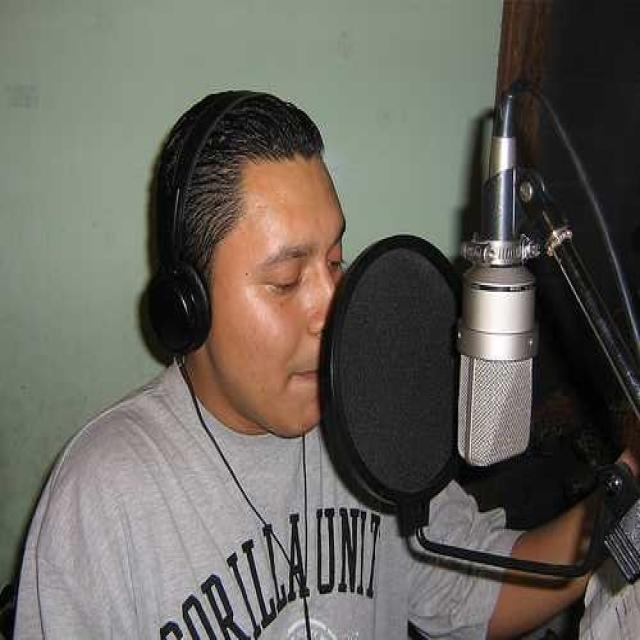microphone: (456, 267, 536, 472)
